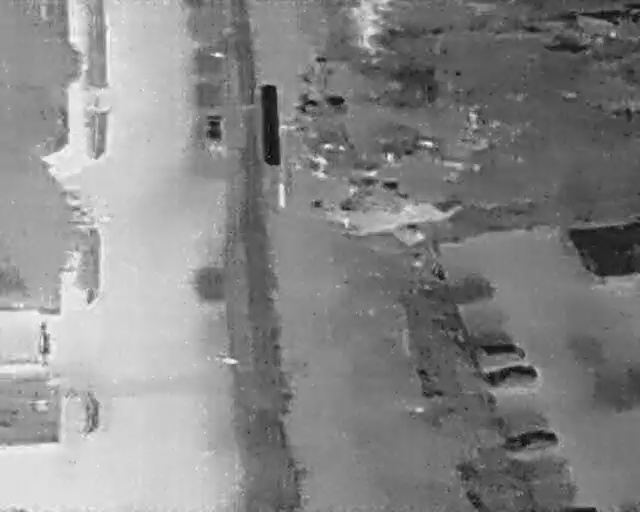Car: (498, 426, 560, 457), (482, 365, 539, 391), (476, 341, 526, 363), (205, 112, 223, 145)
